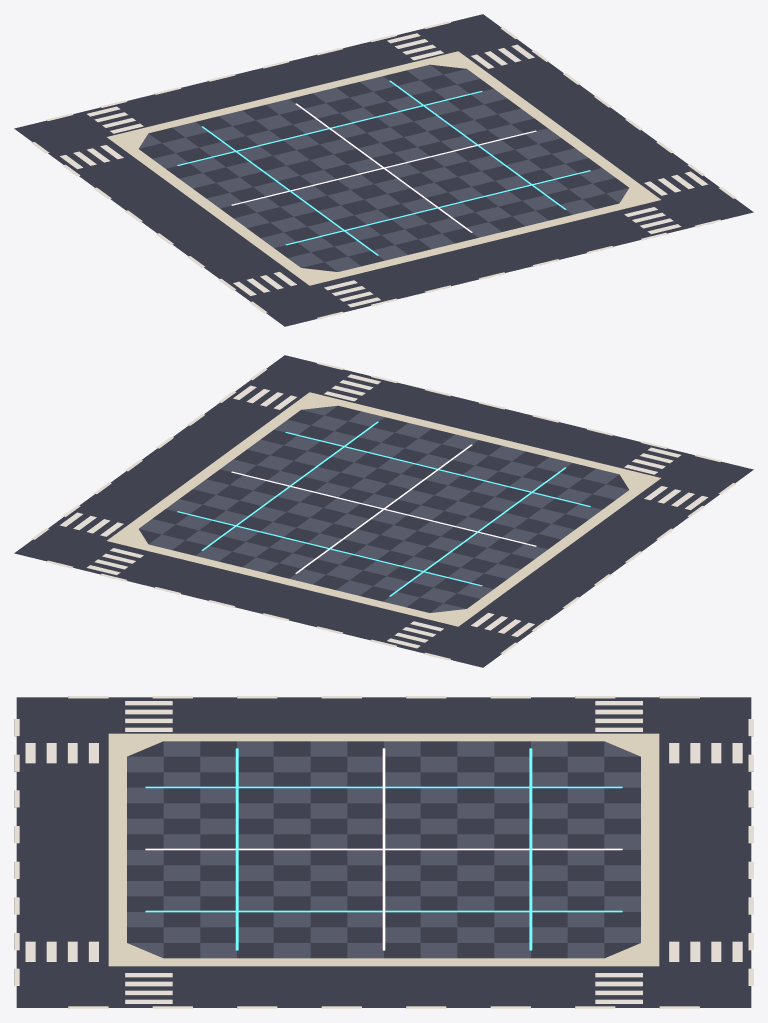
The model's file is tile_neon.glb.
3 views of the same model, one above another, from view 1: azimuth 30°, elevation 25°; view 2: azimuth 150°, elevation 25°; view 3: azimuth 270°, elevation 25° (orthographic). The views are drawn at different scales.
Visible parts, largest first — view 1: tile_neon; view 2: tile_neon; view 3: tile_neon.
Boxes of the visible parts, x1,y1,x2,y2 form: tile_neon: [14, 14, 753, 326]; tile_neon: [14, 355, 753, 667]; tile_neon: [14, 696, 753, 1008].
Size of the model in its own units: 40.3 by 0.2115 by 40.3.
1 material, 1 textured.
